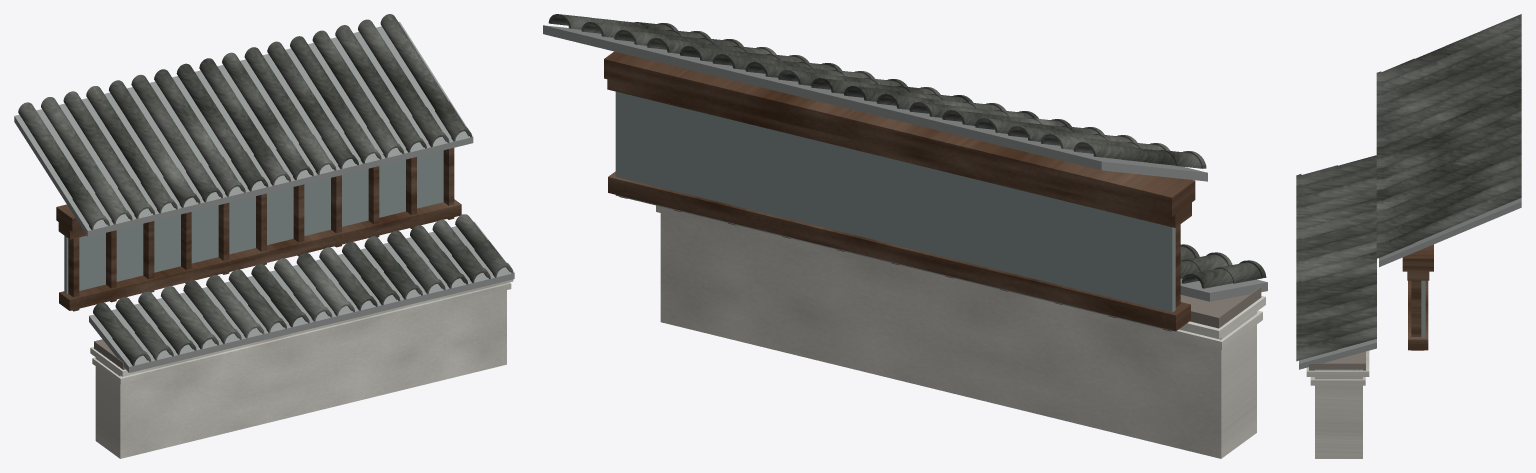
Rendered from jinze-chen-warehouse-clerestory-and-tile-eaves-near.glb.
The picture shows the model from 3 angles, left to right: view 1: azimuth 30°, elevation 25°; view 2: azimuth 150°, elevation 25°; view 3: azimuth 270°, elevation 25°; orthographic projection. The views are drawn at different scales.
Visible parts, largest first — view 1: 金泽陈家仓库层檐之间的窄窗带与小青瓦; view 2: 金泽陈家仓库层檐之间的窄窗带与小青瓦; view 3: 金泽陈家仓库层檐之间的窄窗带与小青瓦.
Boxes of the visible parts, x1=… form: 金泽陈家仓库层檐之间的窄窗带与小青瓦: x1=14, y1=14, x2=514, y2=458; 金泽陈家仓库层檐之间的窄窗带与小青瓦: x1=543, y1=14, x2=1267, y2=458; 金泽陈家仓库层檐之间的窄窗带与小青瓦: x1=1296, y1=14, x2=1521, y2=458.
Bounding box in the file's own units: 3.03 × 2.03 × 1.55.
Materials: 6 (3 with a texture image).
